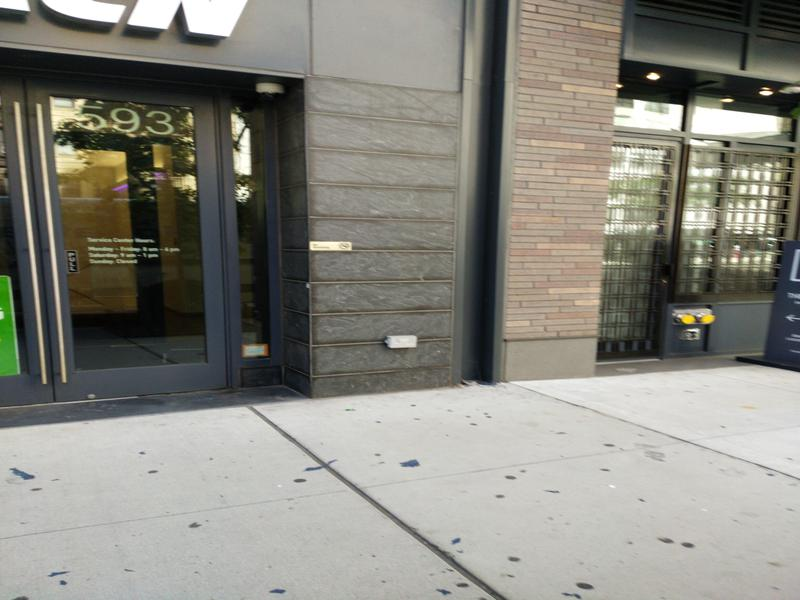door: (31, 77, 251, 402)
